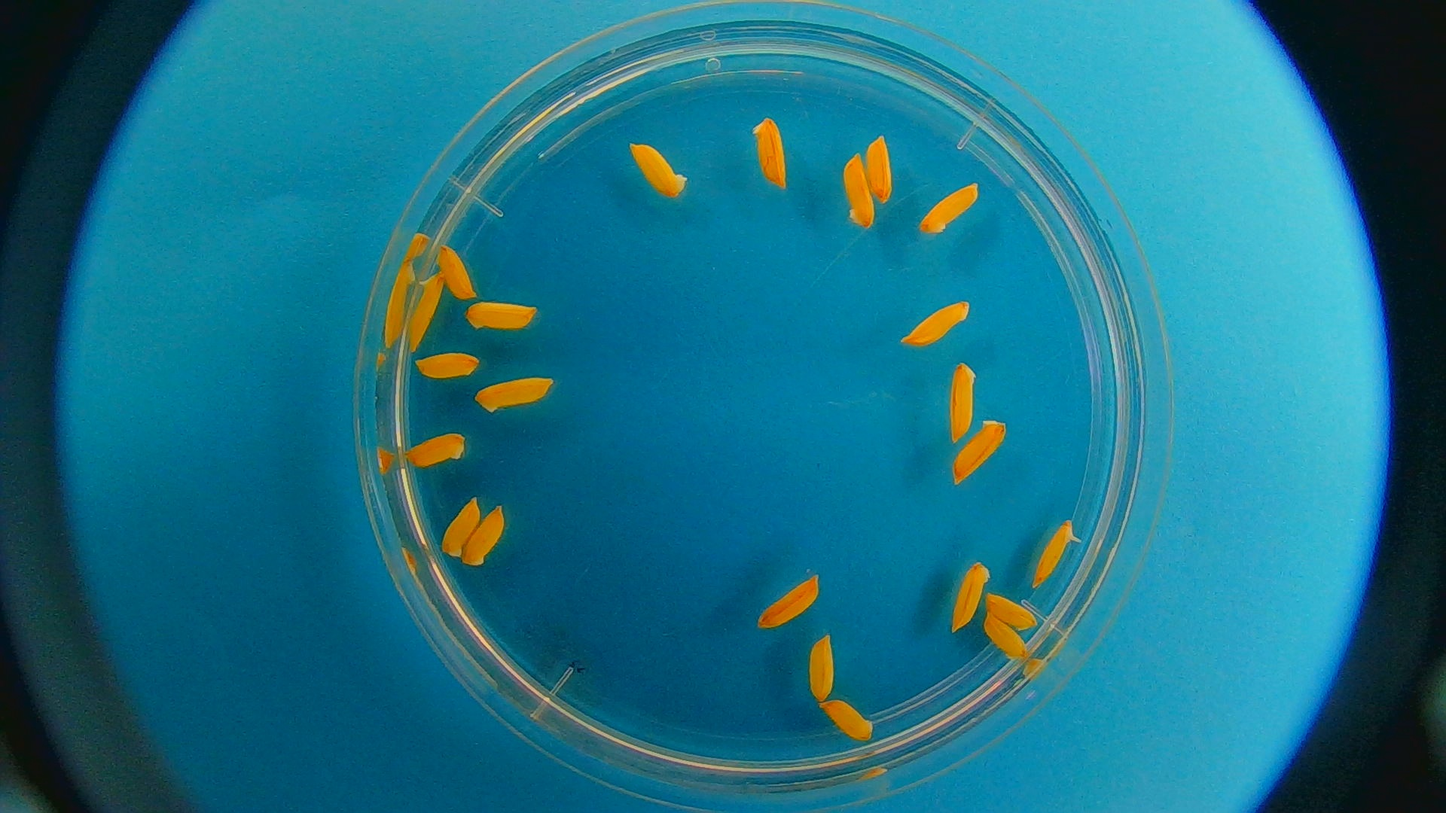no: (401, 268, 450, 356), (950, 417, 1008, 483), (629, 142, 689, 202), (749, 110, 792, 193), (902, 300, 971, 349), (918, 182, 981, 235), (759, 577, 822, 630), (818, 696, 877, 750), (476, 375, 554, 414), (950, 560, 989, 630), (461, 506, 506, 566), (840, 156, 876, 227), (807, 632, 840, 706), (405, 433, 468, 470), (464, 300, 535, 332), (443, 499, 481, 558), (436, 244, 474, 303), (864, 136, 894, 209), (948, 361, 975, 440), (412, 350, 480, 381), (984, 592, 1036, 632), (985, 617, 1030, 659)
yes: (1031, 517, 1082, 588)
